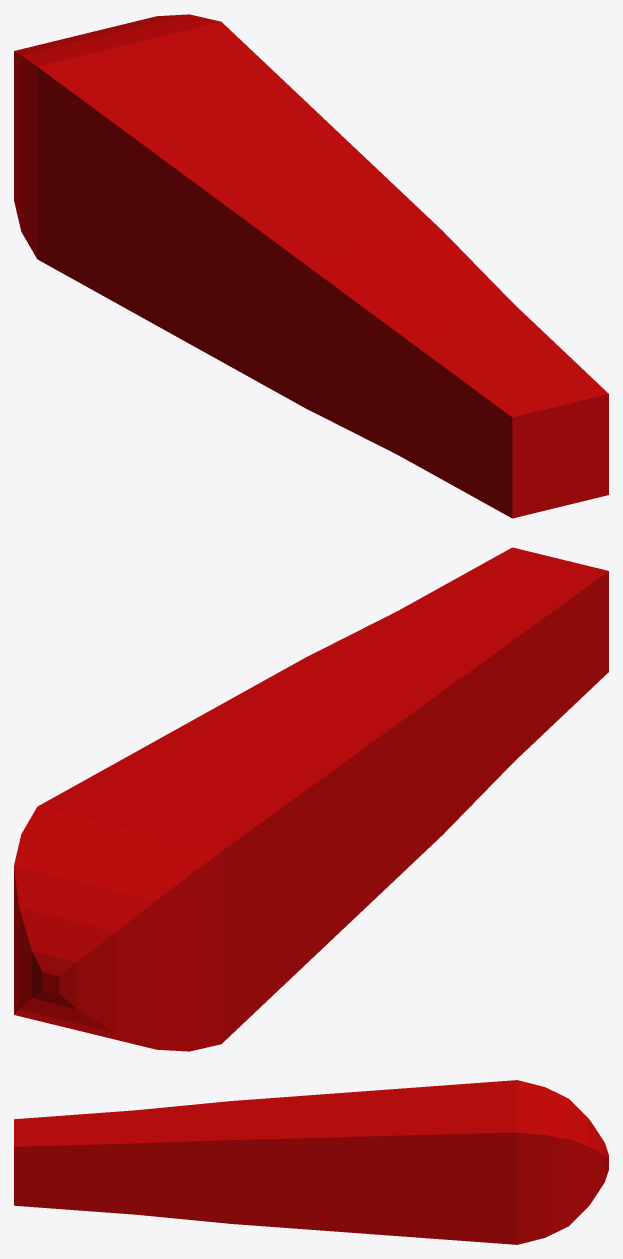
File: laserBullet.obj
3 views of the same model, one above another, from view 1: azimuth 30°, elevation 25°; view 2: azimuth 150°, elevation 25°; view 3: azimuth 270°, elevation 25° (orthographic). The views are drawn at different scales.
Visible parts, largest first — view 1: Cube; view 2: Cube; view 3: Cube.
Part boxes in pixels (x1,y1,x2,y2): Cube: [14, 14, 608, 518]; Cube: [14, 547, 608, 1051]; Cube: [14, 1080, 608, 1244].
Bounding box in the file's own units: 0.2505 × 0.2505 × 1.2.
